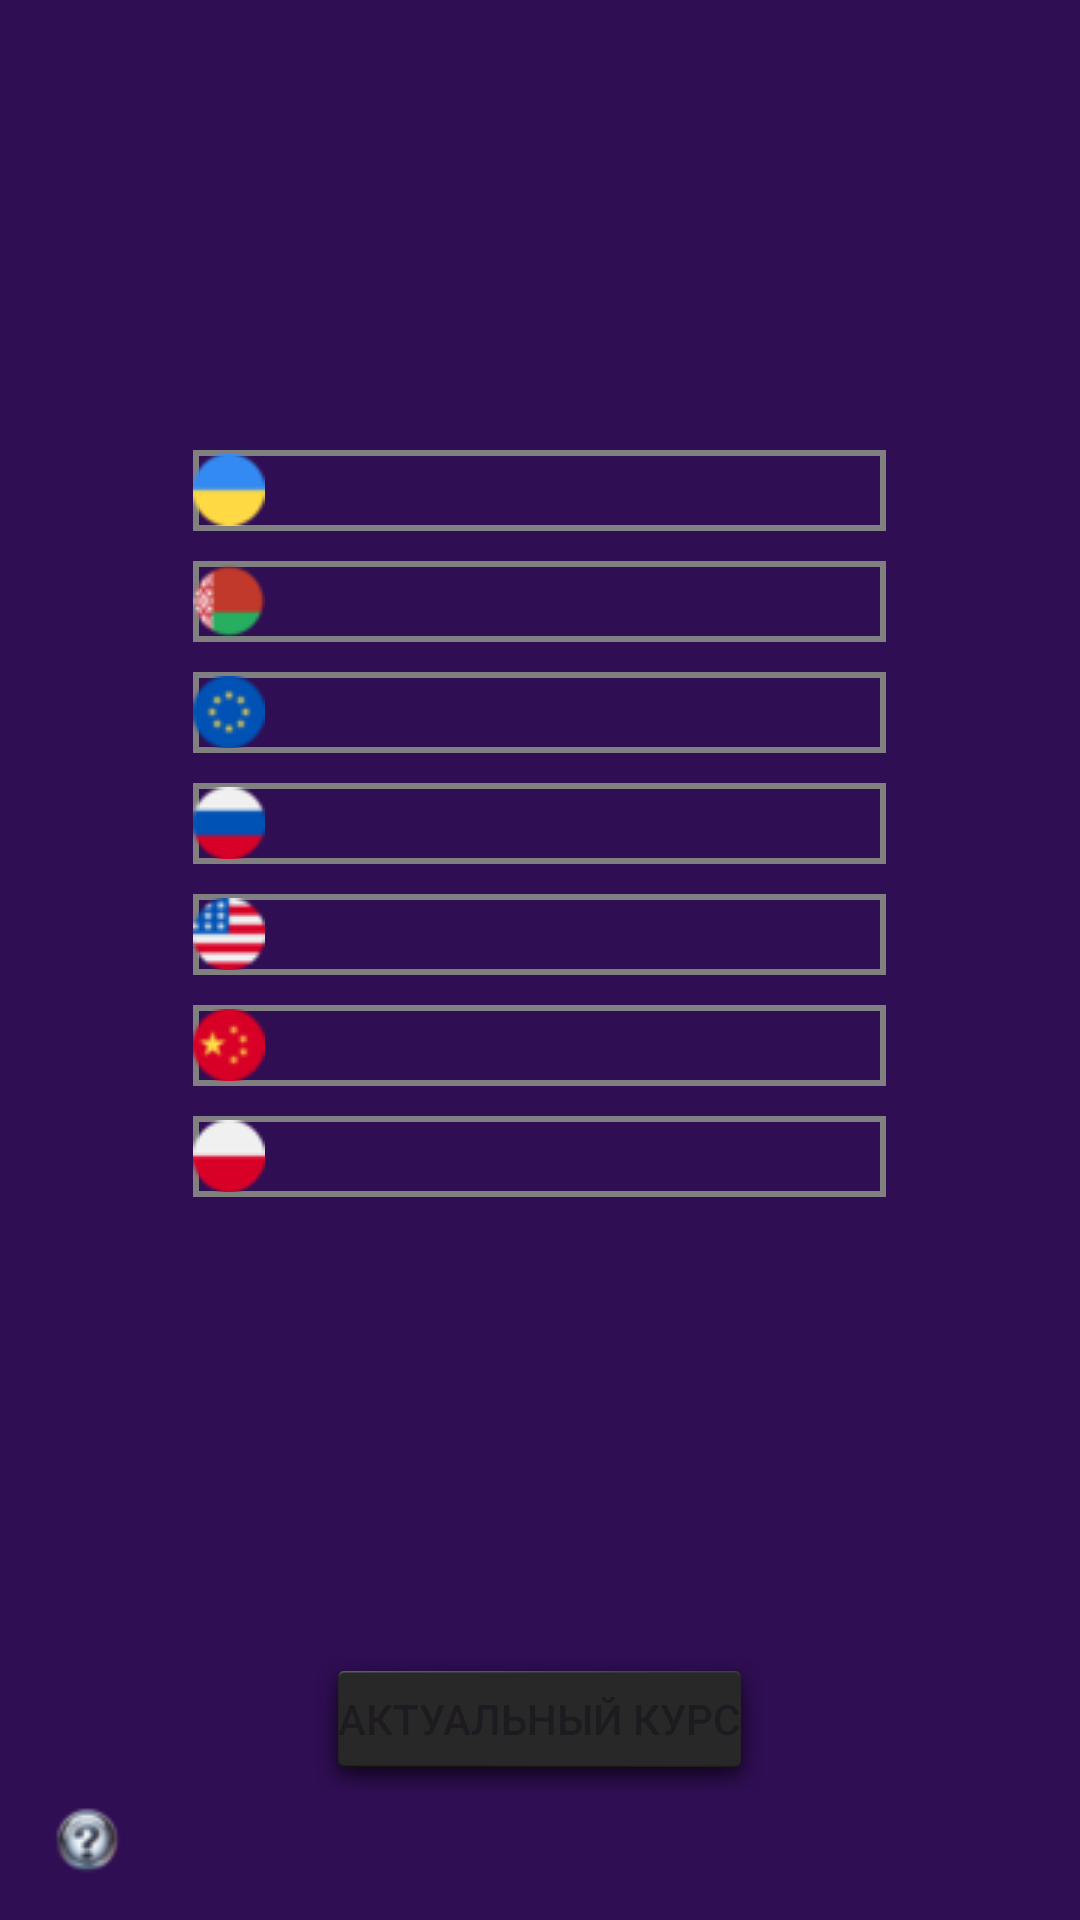

Locate icon controls on the screen. Image size 1080w x 1920h, boxes as (x1, y1, x2, y2).
information: (57, 1808, 118, 1870)
